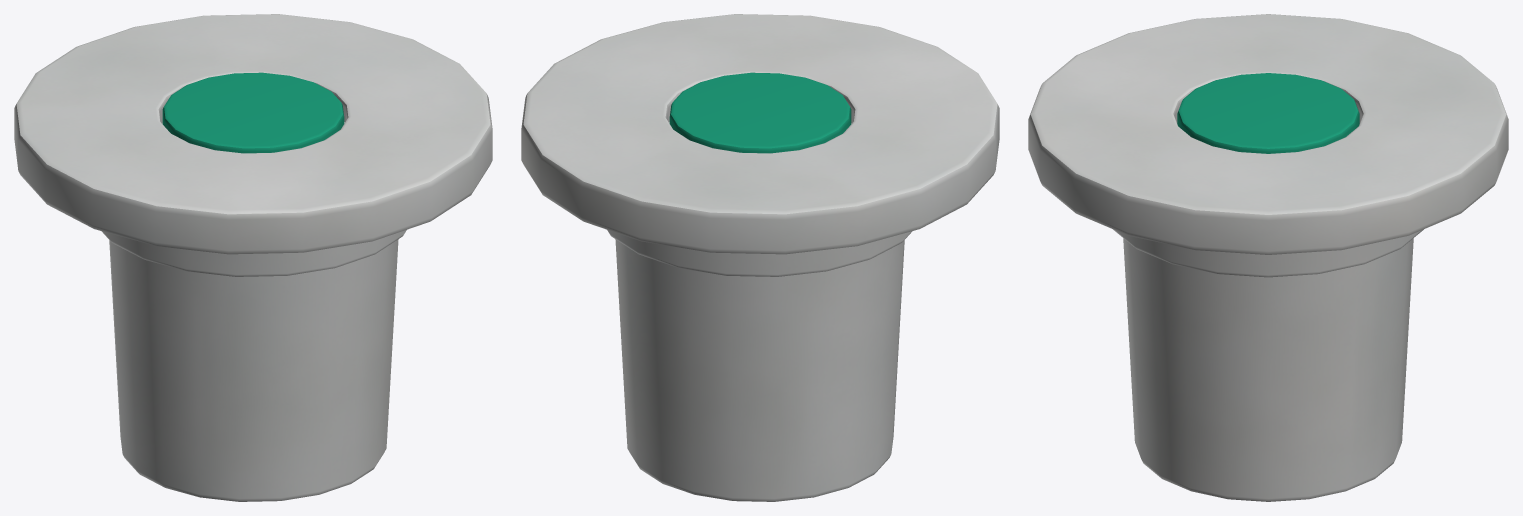
Rendered from volumetric_flask_100ml_ADAP.glb.
The picture shows the model from 3 angles, left to right: view 1: azimuth 30°, elevation 25°; view 2: azimuth 150°, elevation 25°; view 3: azimuth 270°, elevation 25°; orthographic projection.
Visible parts, largest first — view 1: Tampa_100mL; view 2: Tampa_100mL; view 3: Tampa_100mL.
Part boxes in pixels (left/top/right/bottom): Tampa_100mL: left=14, top=14, right=492, bottom=501; Tampa_100mL: left=521, top=14, right=999, bottom=501; Tampa_100mL: left=1028, top=14, right=1508, bottom=501.
Size of the model in its own units: 0.0304 by 0.0236 by 0.0304.
Materials: 1 (1 with a texture image).
